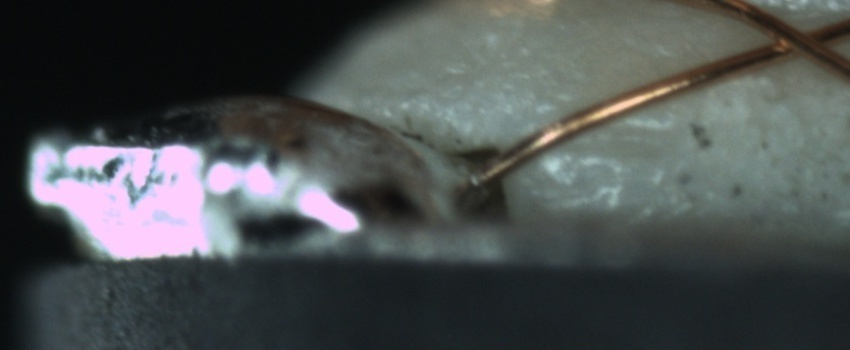CL: (754, 10, 846, 66)
DL: (543, 110, 688, 175)
